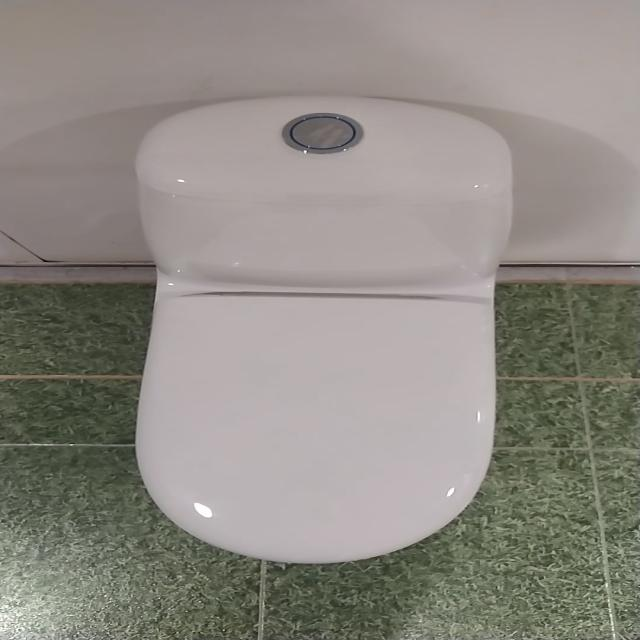toilet: (132, 94, 514, 564)
